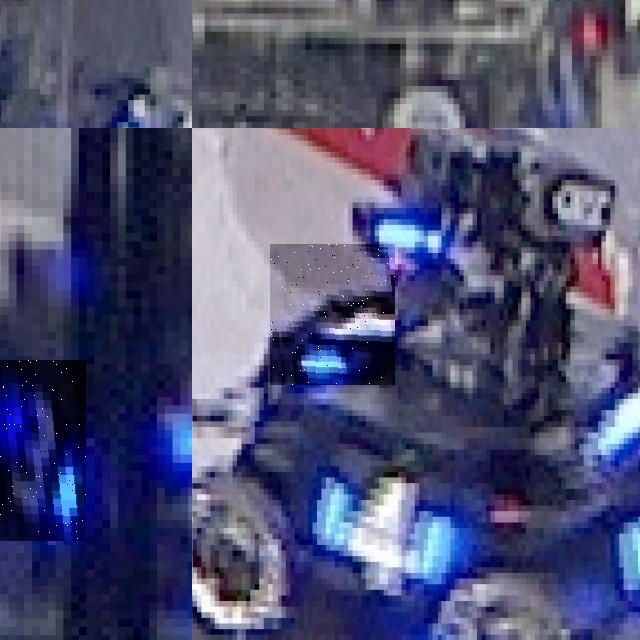B3: (0, 360, 86, 540)
B4: (299, 444, 442, 601), (270, 244, 395, 385), (599, 457, 640, 598)
